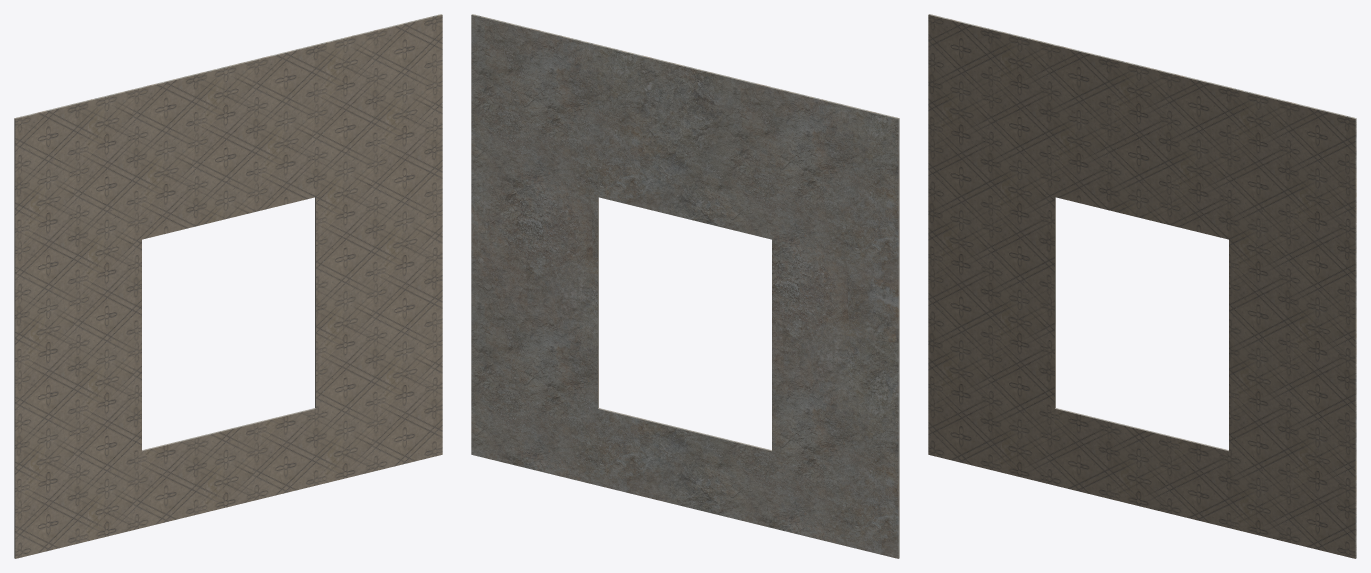
Rendered from WallpapperG.fbx.
The picture shows the model from 3 angles, left to right: view 1: azimuth 30°, elevation 25°; view 2: azimuth 150°, elevation 25°; view 3: azimuth 330°, elevation 25°; orthographic projection.
Parts seen in each view (by area): view 1: WallpapperG; view 2: WallpapperG; view 3: WallpapperG.
Boxes of the visible parts, x1,y1,x2,y2 form: WallpapperG: [14, 14, 442, 558]; WallpapperG: [471, 14, 899, 558]; WallpapperG: [928, 14, 1356, 558].
Size of the model in its own units: 374 by 368 by 1.68.
